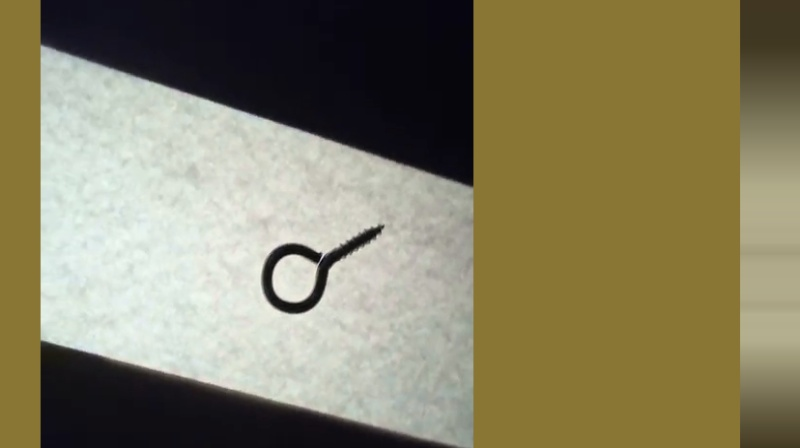O001: (253, 218, 388, 318)
